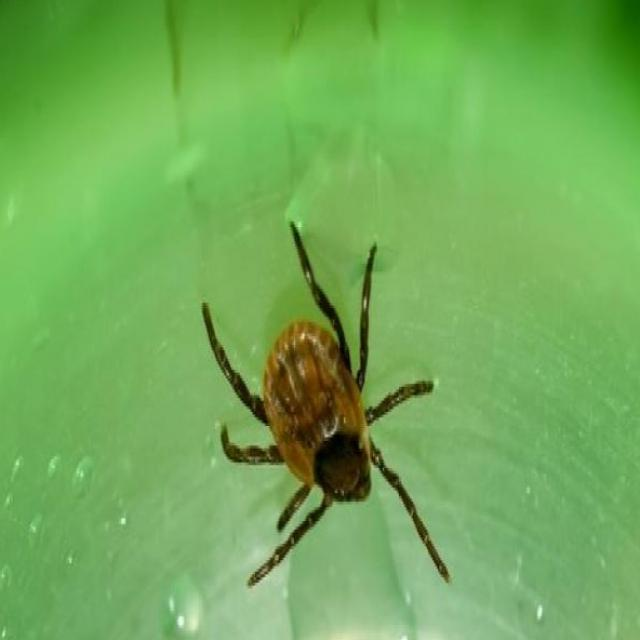Rhipicephalus Sanguineus-F: (205, 233, 449, 586)
